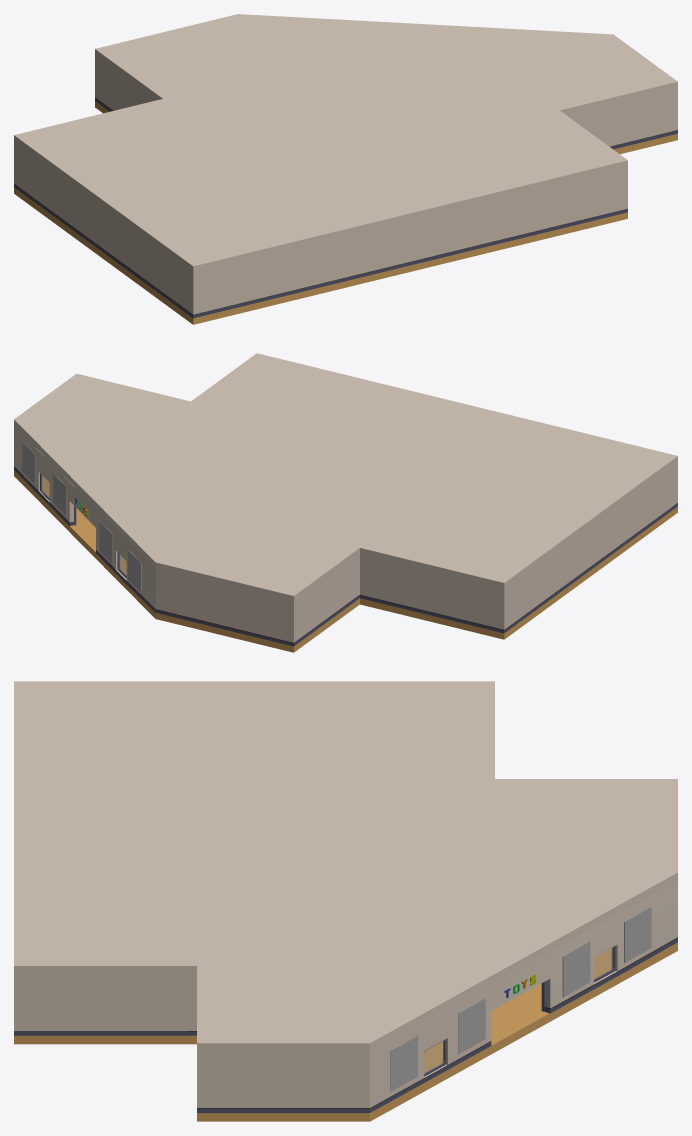
The model's file is Tienda_de_juguetes.fbx.
3 renders of one model, top to bottom at view 1: azimuth 30°, elevation 25°; view 2: azimuth 150°, elevation 25°; view 3: azimuth 270°, elevation 25°, orthographic. The views are drawn at different scales.
Parts seen in each view (by area): view 1: Techo1, Pared_66x12x1, Pared_1x12x46, Piso_1, Pared3_1x12x16, Pared_1x12x16, Esquina_1x12x1, Esquina7_1x12x1, Esquina5_1x12x1; view 2: Techo1, Pared_1x12x46, Pared2_21x12x1, Pared_21x12x1, Piso_1, Entrada1_0_5x12x53, Pared_1x12x16, Esquina2_1x12x1, Esquina4_1x12x1; view 3: Techo1, Entrada1_0_5x12x53, Pared2_1x12x16, Pared4_1x12x16, Piso_1, Esquina5_1x12x1, Poster_2, Poster_3, Poster_4, Poster_1, Esquina7_1x12x1.
Part boxes in pixels (x1,y1,x2,y2): Techo1: (14,14,677,272); Pared_66x12x1: (205,170,615,315); Pared_1x12x46: (21,147,185,312); Piso_1: (14,101,677,324); Pared3_1x12x16: (567,91,665,149); Pared_1x12x16: (102,61,155,111); Esquina_1x12x1: (186,268,205,318); Esquina7_1x12x1: (665,88,677,136); Esquina5_1x12x1: (615,167,627,215); Techo1: (14,353,677,602); Pared_1x12x46: (511,467,670,627); Pared2_21x12x1: (155,569,281,643); Pared_21x12x1: (366,555,492,630); Piso_1: (14,470,677,652); Entrada1_0_5x12x53: (14,426,155,612); Pared_1x12x16: (301,557,356,640); Esquina2_1x12x1: (492,584,511,633); Esquina4_1x12x1: (282,597,300,646); Techo1: (14,681,677,1051); Entrada1_0_5x12x53: (370,881,677,1112); Pared2_1x12x16: (33,974,187,1035); Pared4_1x12x16: (216,1052,369,1112); Piso_1: (14,942,677,1121); Esquina5_1x12x1: (14,974,33,1035); Poster_2: (390,1035,418,1091); Poster_3: (562,941,590,997); Poster_4: (458,998,485,1054); Poster_1: (624,906,651,962); Esquina7_1x12x1: (197,1052,215,1112).
Size of the model in its own units: 89 by 9 by 69.
